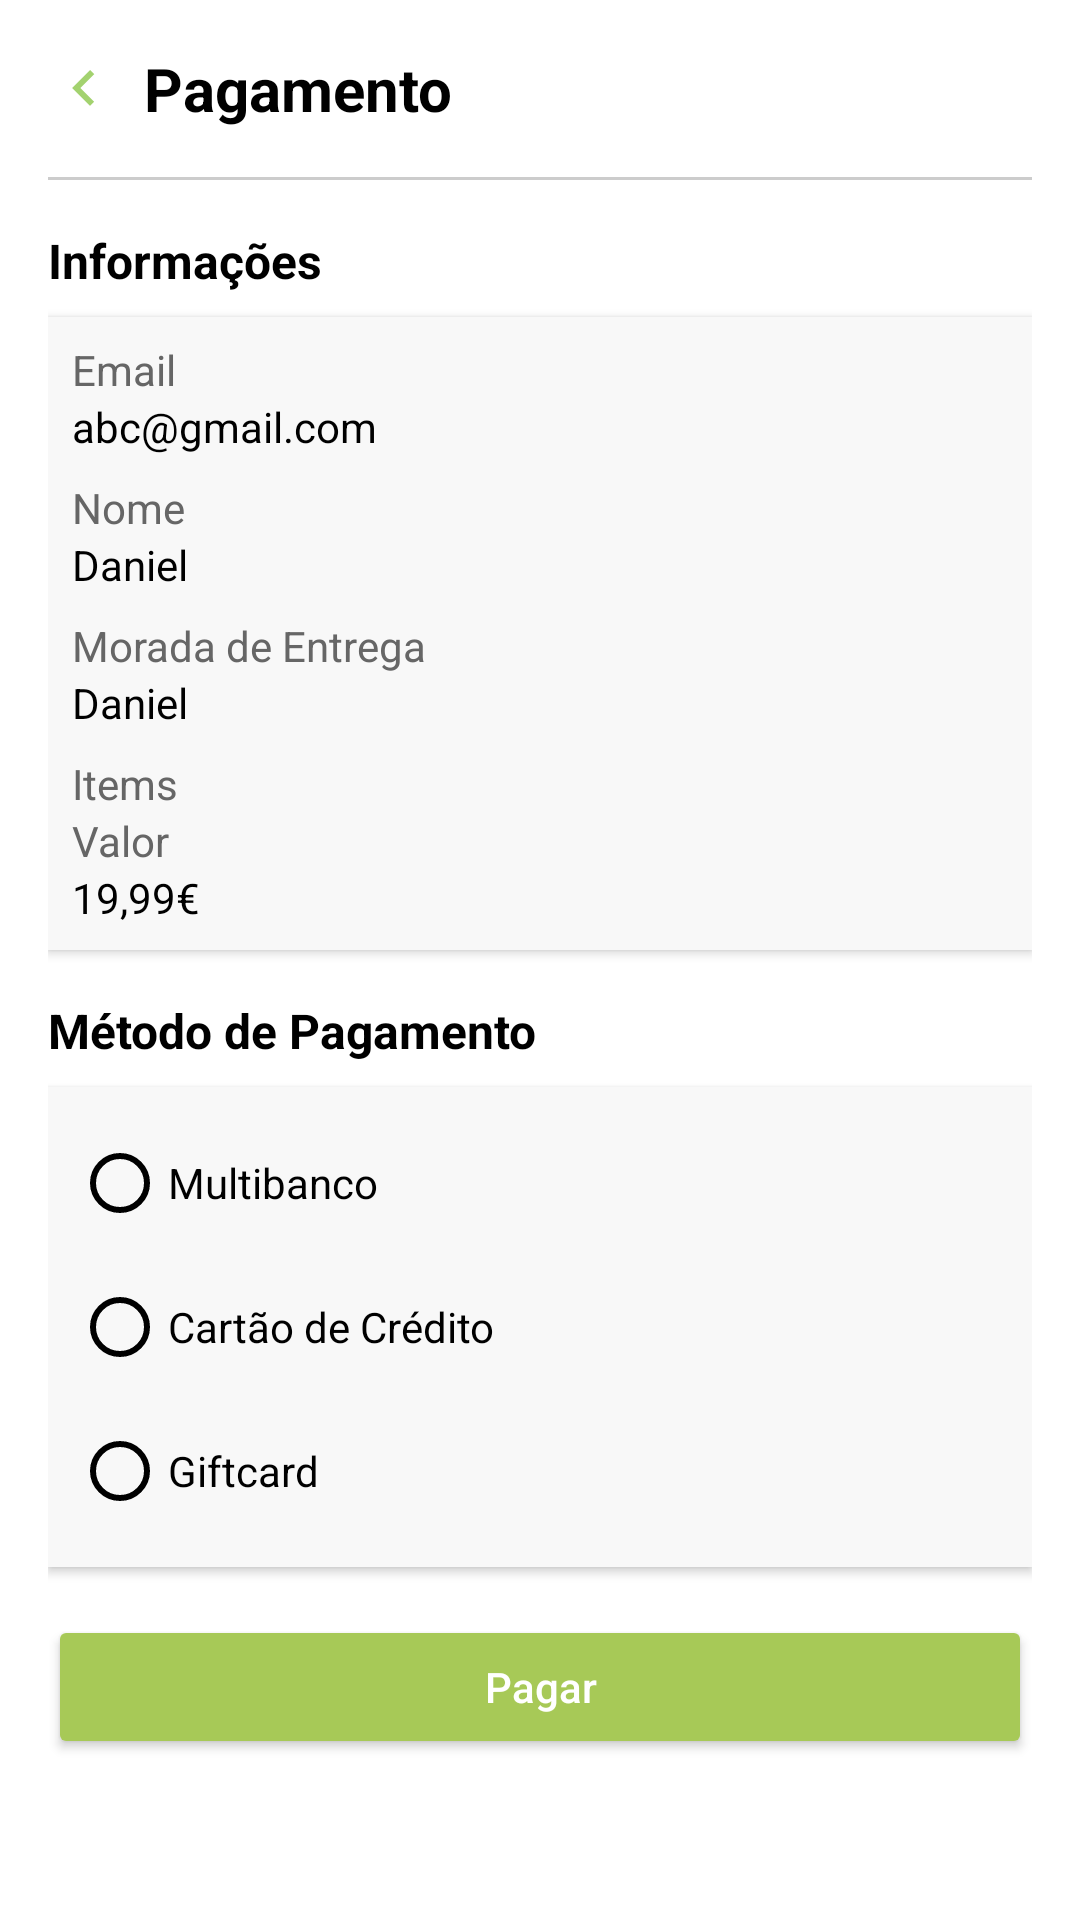

Where icons sit on this 1080w x 1920h app screen, as (x1=x1, y1=y1, x2=x2, y2=y2):
Voltar: (x1=72, y1=70, x2=94, y2=106)
